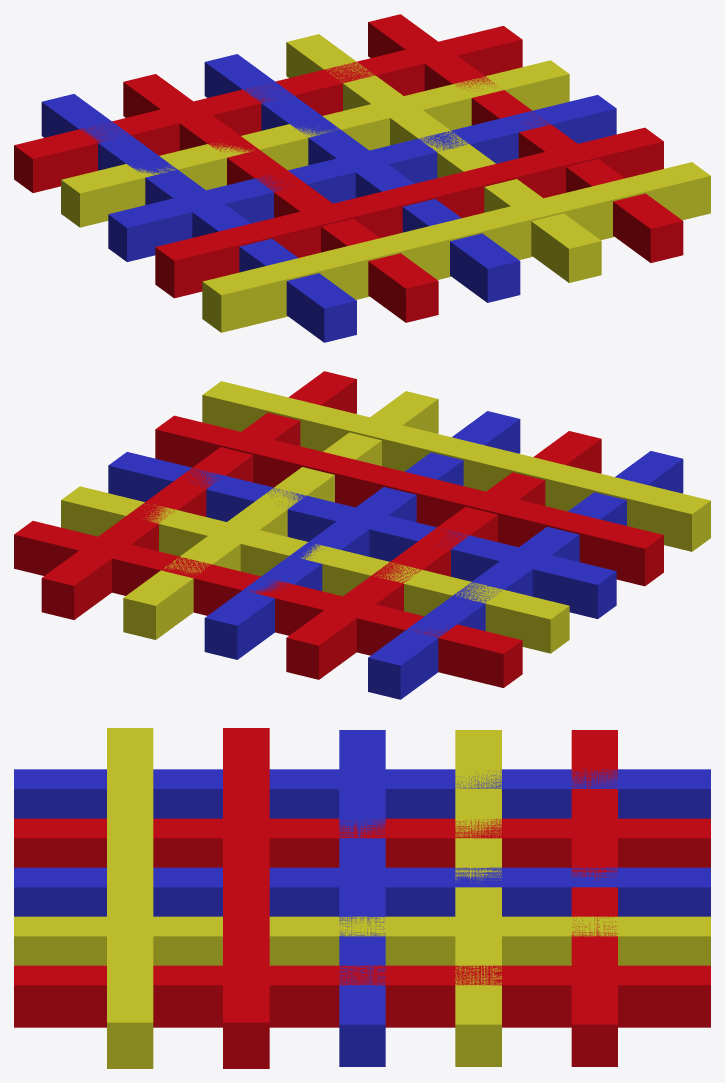
Rendered from Grod.fbx.
3 renders of one model, top to bottom at view 1: azimuth 30°, elevation 25°; view 2: azimuth 150°, elevation 25°; view 3: azimuth 270°, elevation 25°, orthographic. The views are drawn at different scales.
Visible parts, largest first — view 1: Cube.003, Cube.006, Cube.007, Cube.002, Cube.001, Cube, Cube.004, Cube.009, Cube.008, Cube.005; view 2: Cube.006, Cube.003, Cube.007, Cube.002, Cube.001, Cube.009, Cube.004, Cube.005, Cube.008, Cube; view 3: Cube.005, Cube.008, Cube, Cube.009, Cube.004, Cube.003, Cube.006, Cube.002, Cube.001, Cube.007.
Part boxes in pixels (box(x1,y1,x2,y2)): Cube.003: box(202, 162, 710, 332); Cube.006: box(155, 127, 663, 298); Cube.007: box(14, 26, 522, 192); Cube.002: box(61, 60, 569, 227); Cube.001: box(108, 95, 616, 261); Cube: box(204, 54, 520, 302); Cube.004: box(41, 94, 356, 342); Cube.009: box(123, 74, 438, 322); Cube.008: box(286, 34, 601, 282); Cube.005: box(368, 14, 683, 262); Cube.006: box(155, 415, 663, 586); Cube.003: box(202, 381, 710, 551); Cube.007: box(14, 521, 522, 687); Cube.002: box(61, 486, 569, 653); Cube.001: box(108, 452, 616, 618); Cube.009: box(286, 431, 601, 679); Cube.004: box(368, 451, 683, 699); Cube.005: box(41, 371, 356, 619); Cube.008: box(123, 391, 438, 639); Cube: box(204, 411, 520, 659); Cube.005: box(14, 965, 710, 1027); Cube.008: box(14, 916, 710, 965); Cube: box(14, 867, 710, 916); Cube.009: box(14, 818, 710, 867); Cube.004: box(14, 769, 710, 818); Cube.003: box(107, 728, 153, 1068); Cube.006: box(223, 728, 269, 1068); Cube.002: box(455, 730, 501, 1066); Cube.001: box(339, 730, 385, 1066); Cube.007: box(571, 730, 617, 1066).
Size of the model in its own units: 300 by 22 by 300.
